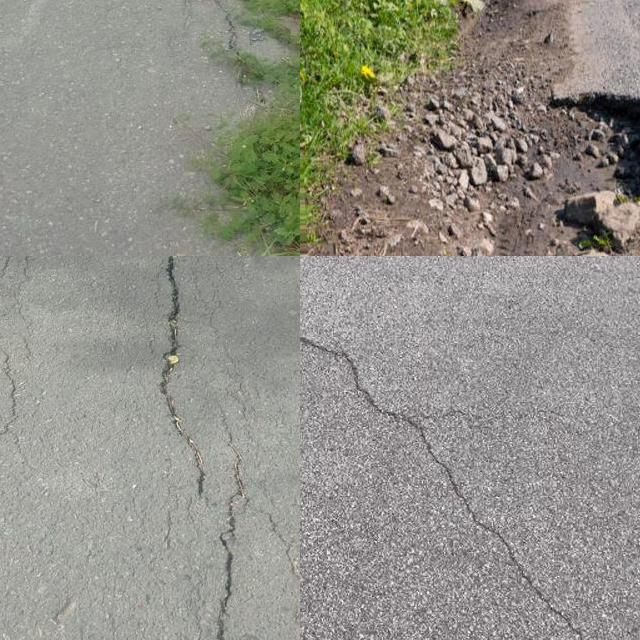Memanjang: (300, 303, 607, 640)
Pinggir: (506, 78, 640, 256), (162, 0, 300, 117)
